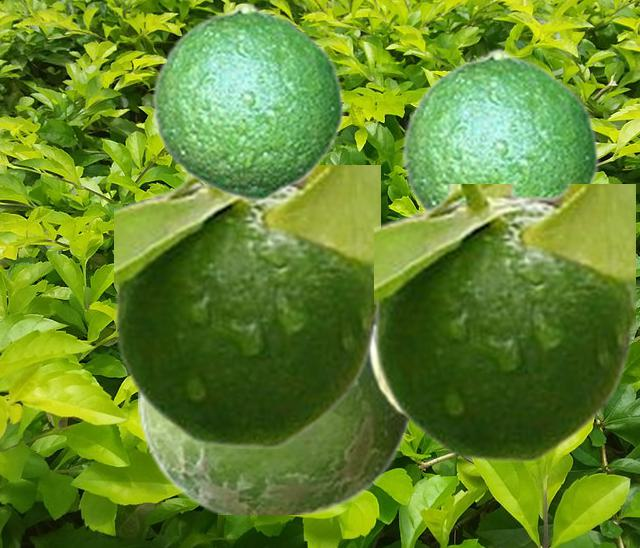dalandan: (114, 165, 379, 447), (374, 184, 634, 461), (138, 350, 407, 513), (150, 1, 344, 201), (400, 47, 599, 208)
